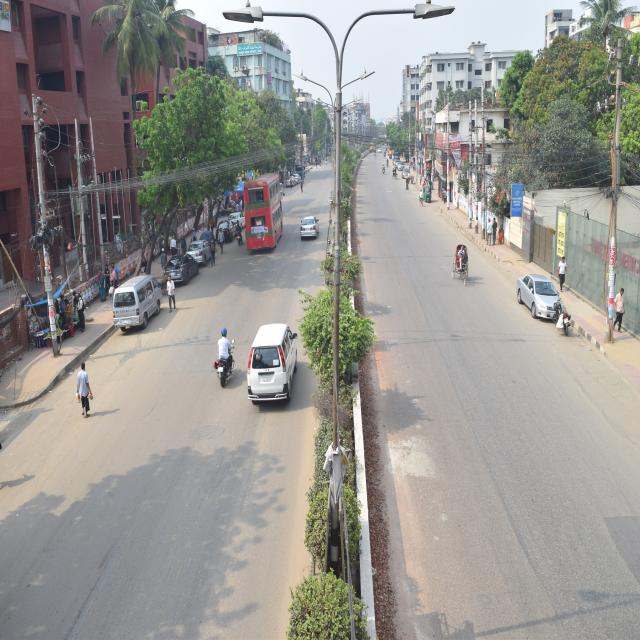bus: (236, 166, 298, 267)
car: (516, 270, 559, 322), (166, 241, 196, 288), (188, 223, 208, 267), (297, 209, 317, 245), (217, 214, 234, 244)
microbus: (246, 321, 300, 411), (104, 267, 164, 339)
motorbike: (209, 322, 242, 394), (547, 286, 572, 341), (228, 214, 246, 247)
